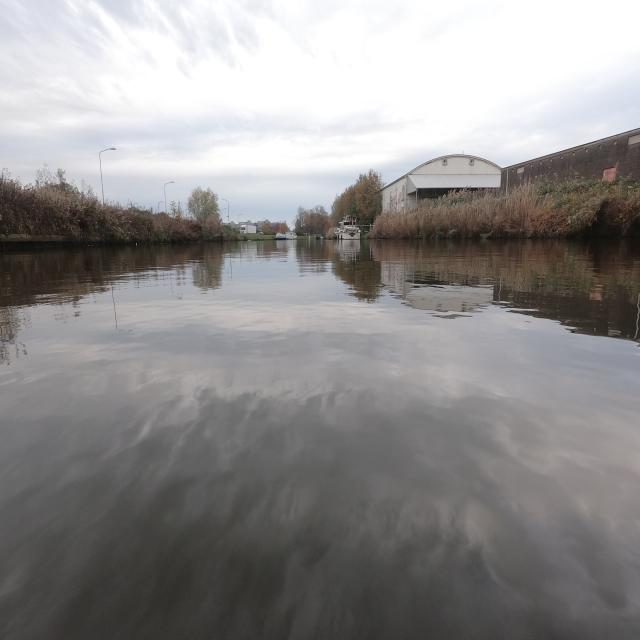boat: (334, 218, 359, 239), (276, 232, 295, 239)
dock: (1, 235, 69, 243), (1, 235, 36, 242)
reed: (367, 176, 638, 239), (1, 173, 234, 243)
sky: (1, 2, 638, 219)
water: (1, 235, 638, 639)
